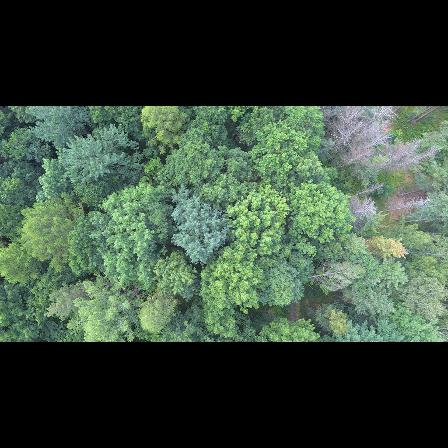Dead: (345, 119, 388, 152), (387, 148, 438, 175), (358, 146, 409, 173), (337, 200, 375, 233), (354, 107, 397, 133), (323, 125, 360, 152), (337, 147, 371, 172), (341, 183, 384, 201)
